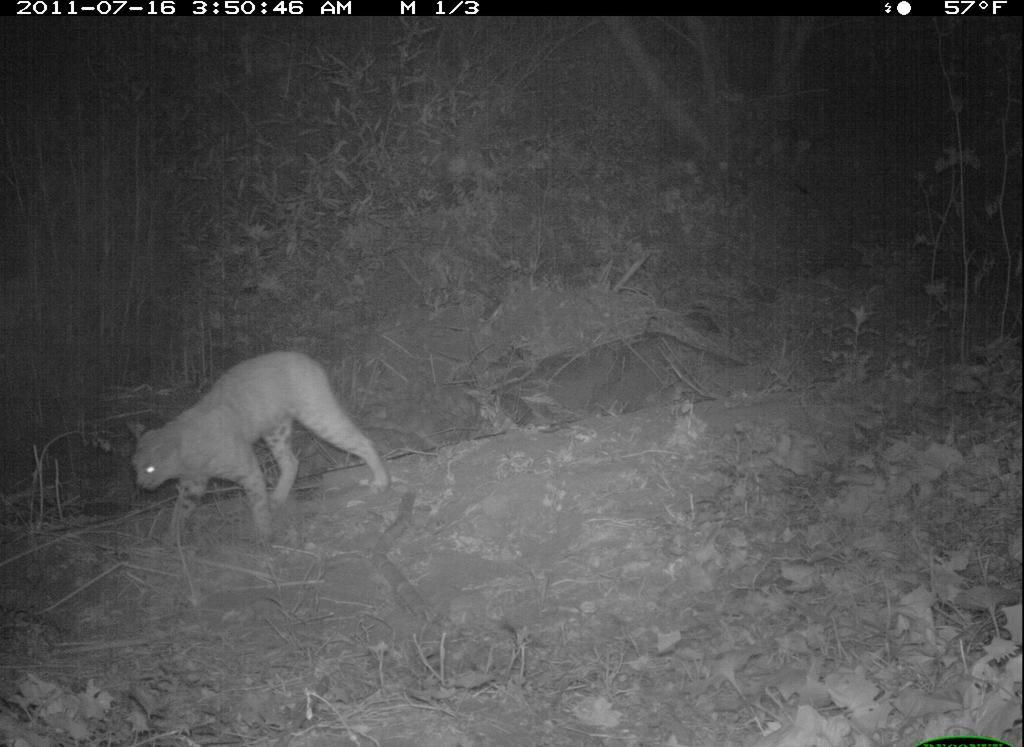bobcat: (122, 342, 395, 541)
